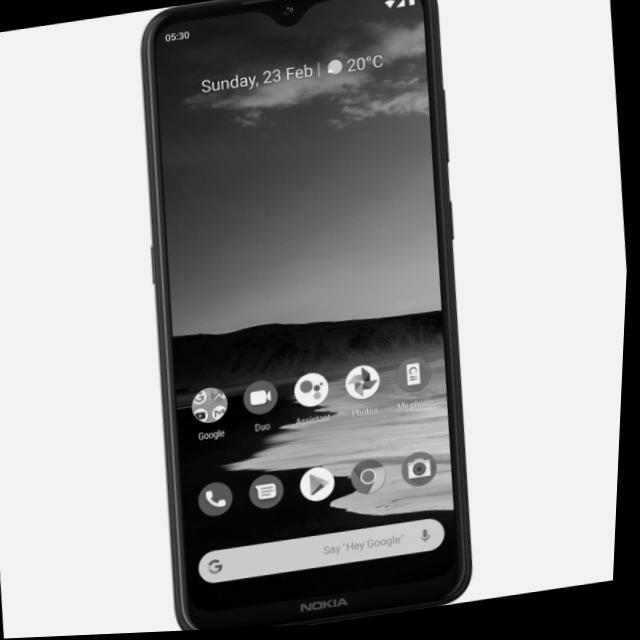Smartphone: (110, 0, 505, 635)
